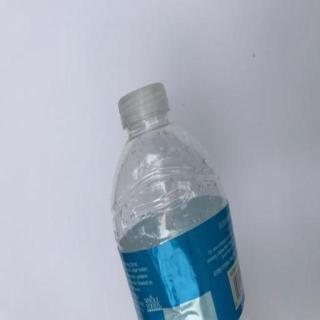Plastic-bottle: (111, 82, 252, 320)
